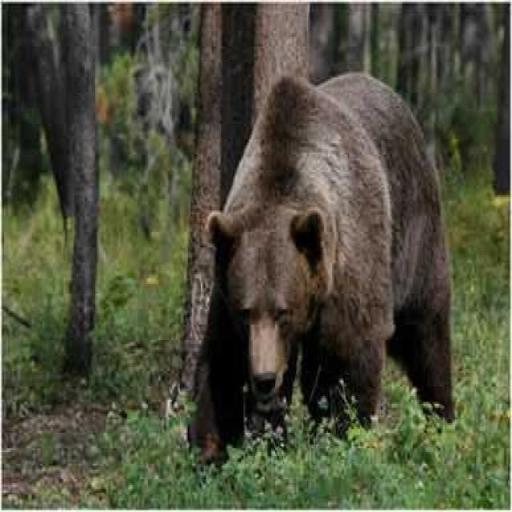Bear: (188, 70, 455, 464)
